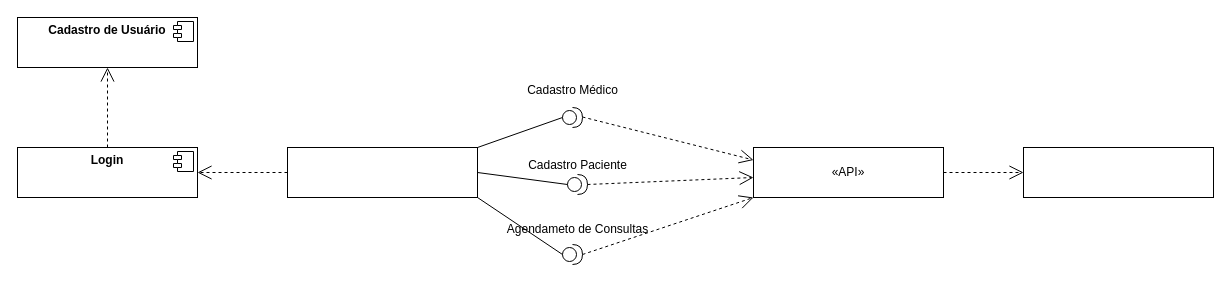
Some shapes in this 1231 by 286 pixel diagram are drawn without their labels. Here are the shapes that lost their labels. From the top down, the centre of each, then its label:
(x=382, y=172): «HTML» Dashboard UPA
(x=1118, y=172): «MySQL» SGBD
